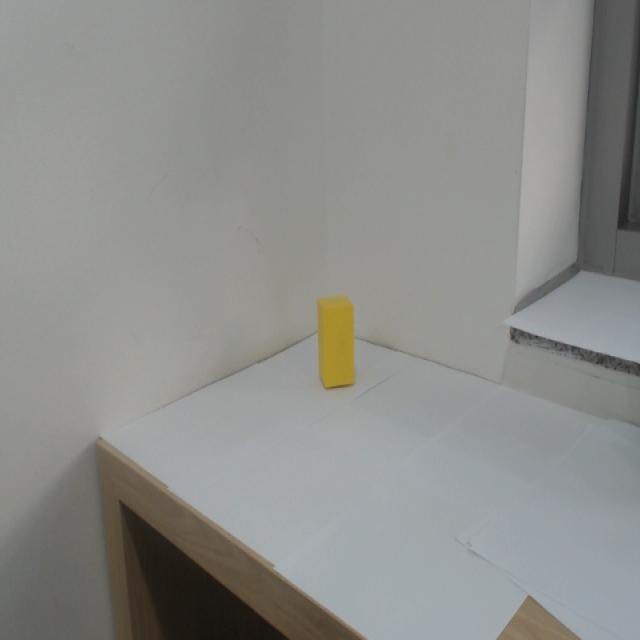cube: (304, 283, 369, 406)
